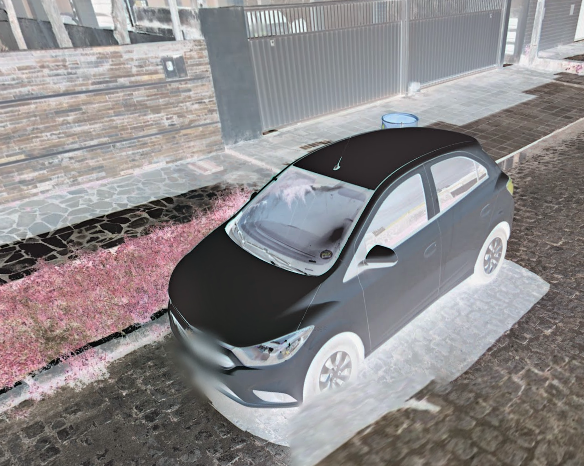car: (163, 121, 517, 415)
